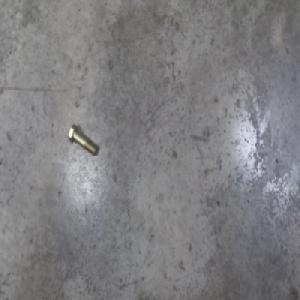Bolt: (67, 123, 98, 157)
